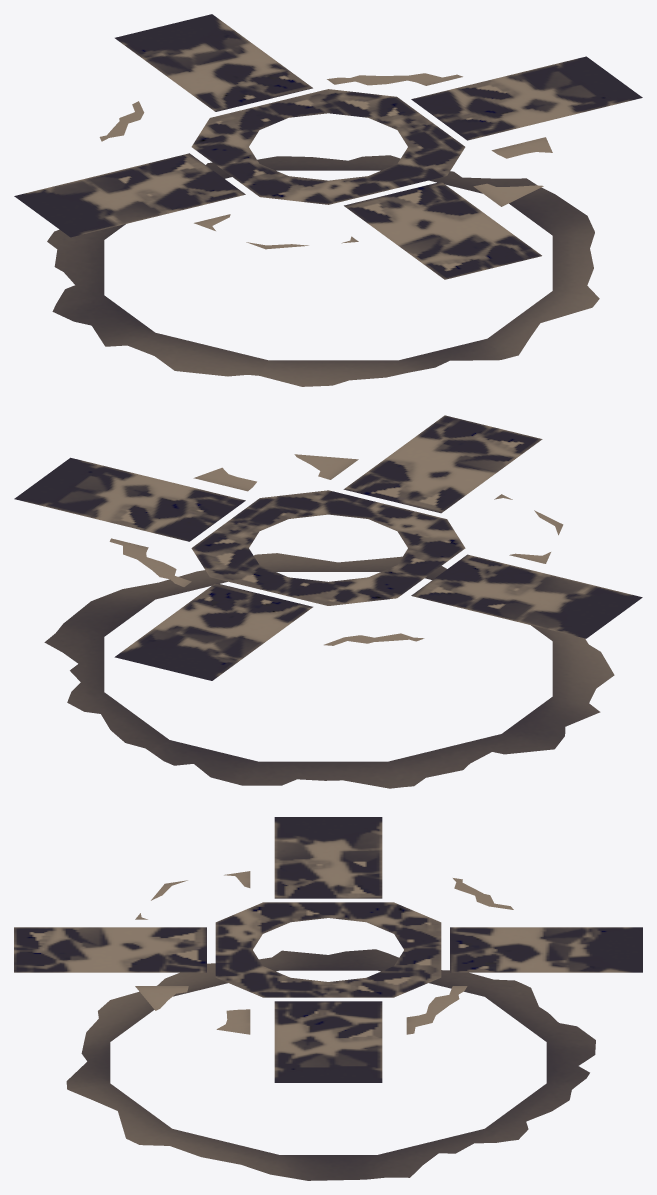
File: Ground_01.FBX
The picture shows the model from 3 angles, top to bottom: view 1: azimuth 30°, elevation 25°; view 2: azimuth 150°, elevation 25°; view 3: azimuth 270°, elevation 25°; orthographic projection. The views are drawn at different scales.
Visible parts, largest first — view 1: Ground_01; view 2: Ground_01; view 3: Ground_01.
Part boxes in pixels (x1,y1,x2,y2): Ground_01: [14, 14, 642, 386]; Ground_01: [14, 415, 642, 788]; Ground_01: [14, 817, 642, 1180].
Size of the model in its own units: 26.91 by 5.47 by 26.91.
